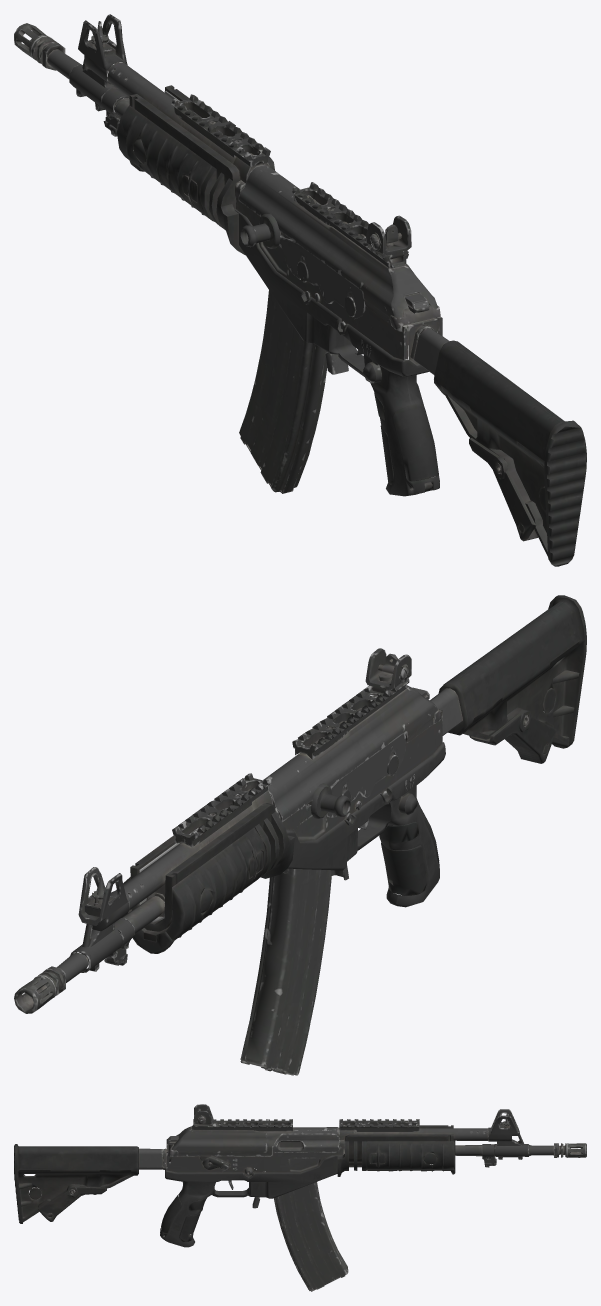
The model's file is galil-ar.glb.
3 views of the same model, one above another, from view 1: azimuth 30°, elevation 25°; view 2: azimuth 150°, elevation 25°; view 3: azimuth 270°, elevation 25° (orthographic). The views are drawn at different scales.
Visible parts, largest first — view 1: rest_steel, magazine_steel, bolt_steel; view 2: rest_steel, magazine_steel, bolt_steel; view 3: rest_steel, magazine_steel, bolt_steel.
Boxes of the visible parts, x1,y1,x2,y2 form: rest_steel: [14, 14, 586, 566]; magazine_steel: [239, 290, 327, 493]; bolt_steel: [240, 213, 291, 248]; rest_steel: [14, 595, 586, 1013]; magazine_steel: [240, 868, 332, 1075]; bolt_steel: [272, 783, 350, 818]; rest_steel: [14, 1104, 586, 1247]; magazine_steel: [274, 1182, 348, 1291]; bolt_steel: [273, 1131, 339, 1152].
Size of the model in its own units: 0.0887 by 0.3415 by 0.974.
Materials: 1 (1 with a texture image).
